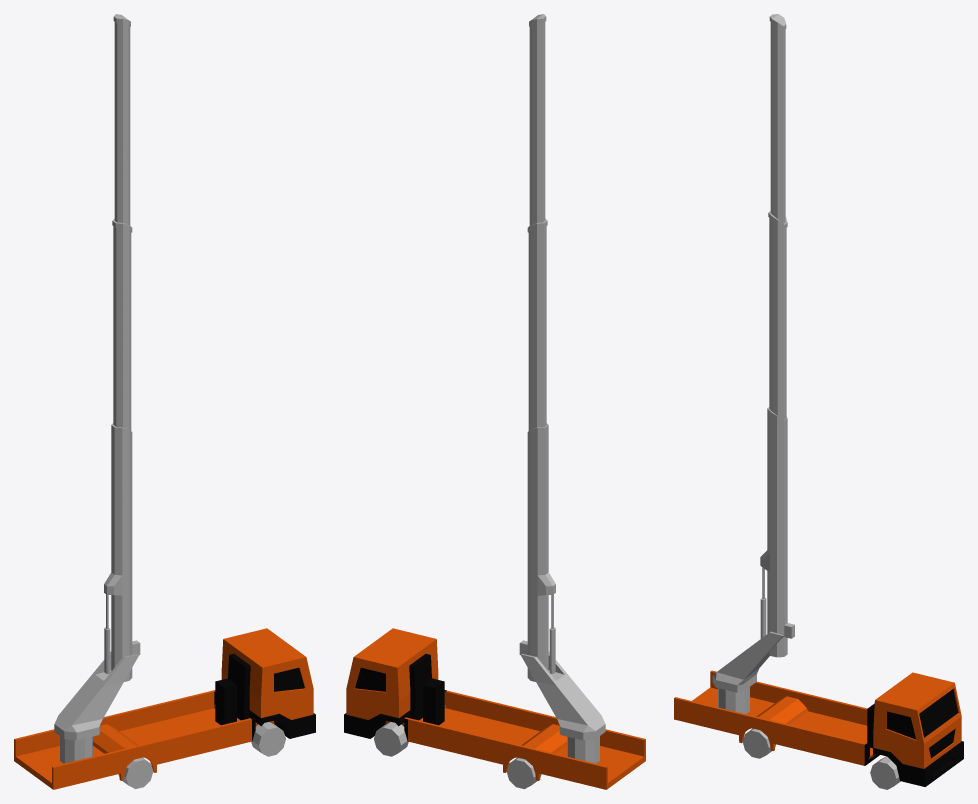
3 renders of one model, left to right at view 1: azimuth 30°, elevation 25°; view 2: azimuth 150°, elevation 25°; view 3: azimuth 330°, elevation 25°, orthographic. The views are drawn at different scales.
Visible parts, largest first — view 1: Lkw Fahrzeug, Kran teil, Kran teil1, Kran teil2, Cube.002, Cylinder.002, Cylinder, Cylinder.001; view 2: Lkw Fahrzeug, Kran teil, Kran teil1, Kran teil2, Cube.002, Cylinder.004, Cylinder, Cylinder.003; view 3: Lkw Fahrzeug, Kran teil, Kran teil1, Kran teil2, Cube.002, Cylinder.002, Cylinder, Cylinder.001.
Part boxes in pixels (x1=…): Lkw Fahrzeug: x1=14, y1=628, x2=315, y2=789; Kran teil: x1=104, y1=423, x2=140, y2=681; Kran teil1: x1=112, y1=218, x2=132, y2=430; Kran teil2: x1=113, y1=14, x2=130, y2=225; Cube.002: x1=54, y1=651, x2=139, y2=740; Cylinder.002: x1=251, y1=722, x2=285, y2=756; Cylinder: x1=60, y1=736, x2=92, y2=763; Cylinder.001: x1=118, y1=757, x2=153, y2=788; Lkw Fahrzeug: x1=344, y1=628, x2=645, y2=789; Kran teil: x1=519, y1=423, x2=555, y2=681; Kran teil1: x1=527, y1=218, x2=547, y2=430; Kran teil2: x1=529, y1=14, x2=546, y2=225; Cube.002: x1=520, y1=651, x2=605, y2=740; Cylinder.004: x1=374, y1=722, x2=408, y2=756; Cylinder: x1=567, y1=736, x2=599, y2=763; Cylinder.003: x1=506, y1=757, x2=541, y2=789; Lkw Fahrzeug: x1=674, y1=670, x2=963, y2=786; Kran teil: x1=760, y1=407, x2=794, y2=657; Kran teil1: x1=768, y1=211, x2=787, y2=420; Kran teil2: x1=769, y1=14, x2=786, y2=223; Cube.002: x1=712, y1=631, x2=784, y2=692; Cylinder.002: x1=870, y1=756, x2=900, y2=789; Cylinder: x1=718, y1=687, x2=749, y2=713; Cylinder.001: x1=742, y1=728, x2=775, y2=758.
Bounding box in the file's own units: 4.35 × 12.01 × 1.17.
